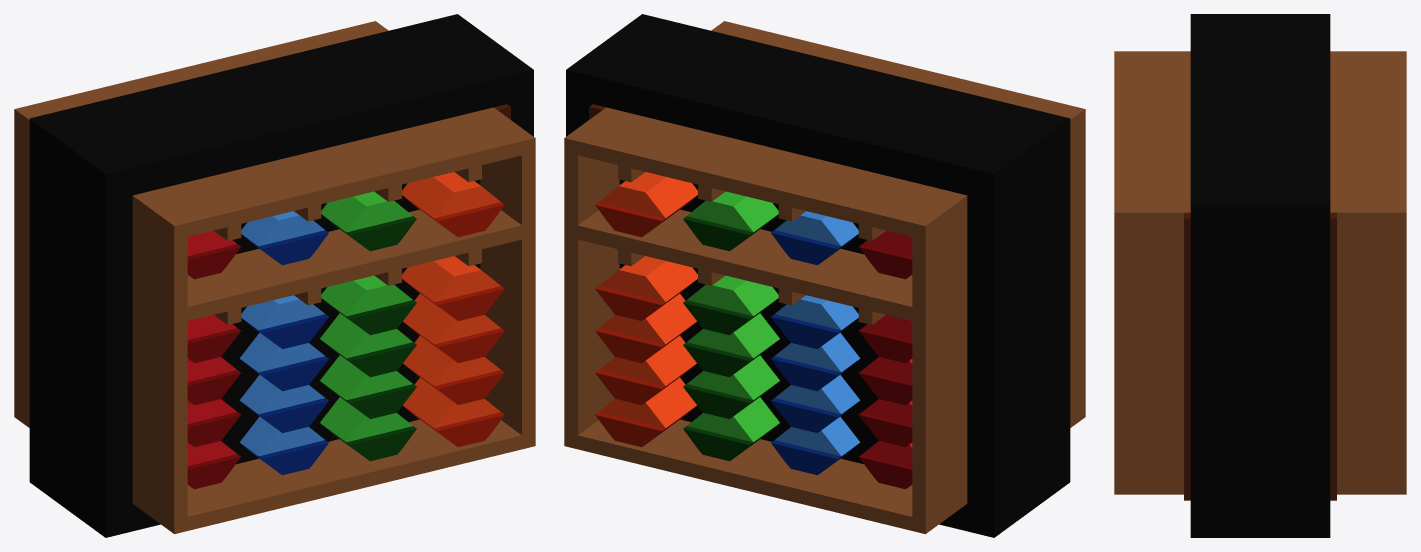
The picture shows the model from 3 angles, left to right: view 1: azimuth 30°, elevation 25°; view 2: azimuth 150°, elevation 25°; view 3: azimuth 270°, elevation 25°; orthographic projection. The views are drawn at different scales.
Visible parts, largest first — view 1: U+1F9EE_layer00_obj00, U+1F9EE_layer11_obj00, U+1F9EE_layer09_obj00, U+1F9EE_layer07_obj00, U+1F9EE_layer05_obj00, U+1F9EE_layer10_obj00, U+1F9EE_layer08_obj00, U+1F9EE_layer06_obj00, U+1F9EE_layer04_obj00, U+1F9EE_layer03_obj00; view 2: U+1F9EE_layer00_obj00, U+1F9EE_layer11_obj00, U+1F9EE_layer09_obj00, U+1F9EE_layer07_obj00, U+1F9EE_layer05_obj00, U+1F9EE_layer10_obj00, U+1F9EE_layer08_obj00, U+1F9EE_layer06_obj00, U+1F9EE_layer04_obj00, U+1F9EE_layer03_obj00; view 3: U+1F9EE_layer00_obj00, U+1F9EE_layer11_obj00, U+1F9EE_layer01_obj00.
Boxes of the visible parts, x1,y1,x2,y2 form: U+1F9EE_layer00_obj00: (29, 14, 533, 537); U+1F9EE_layer11_obj00: (14, 21, 535, 534); U+1F9EE_layer09_obj00: (402, 172, 500, 428); U+1F9EE_layer07_obj00: (320, 191, 412, 442); U+1F9EE_layer05_obj00: (239, 211, 324, 456); U+1F9EE_layer10_obj00: (402, 196, 504, 447); U+1F9EE_layer08_obj00: (321, 215, 416, 461); U+1F9EE_layer06_obj00: (242, 230, 328, 475); U+1F9EE_layer04_obj00: (187, 244, 240, 489); U+1F9EE_layer03_obj00: (187, 230, 236, 465); U+1F9EE_layer00_obj00: (566, 14, 1070, 537); U+1F9EE_layer11_obj00: (564, 21, 1085, 534); U+1F9EE_layer09_obj00: (599, 172, 697, 428); U+1F9EE_layer07_obj00: (687, 191, 779, 442); U+1F9EE_layer05_obj00: (775, 211, 860, 456); U+1F9EE_layer10_obj00: (595, 196, 697, 447); U+1F9EE_layer08_obj00: (683, 215, 778, 461); U+1F9EE_layer06_obj00: (771, 230, 857, 475); U+1F9EE_layer04_obj00: (859, 244, 912, 489); U+1F9EE_layer03_obj00: (863, 230, 912, 465); U+1F9EE_layer00_obj00: (1190, 14, 1330, 537); U+1F9EE_layer11_obj00: (1114, 51, 1406, 494); U+1F9EE_layer01_obj00: (1184, 212, 1336, 500).
Bounding box in the file's own units: 0.6491 × 0.5271 × 0.42.
